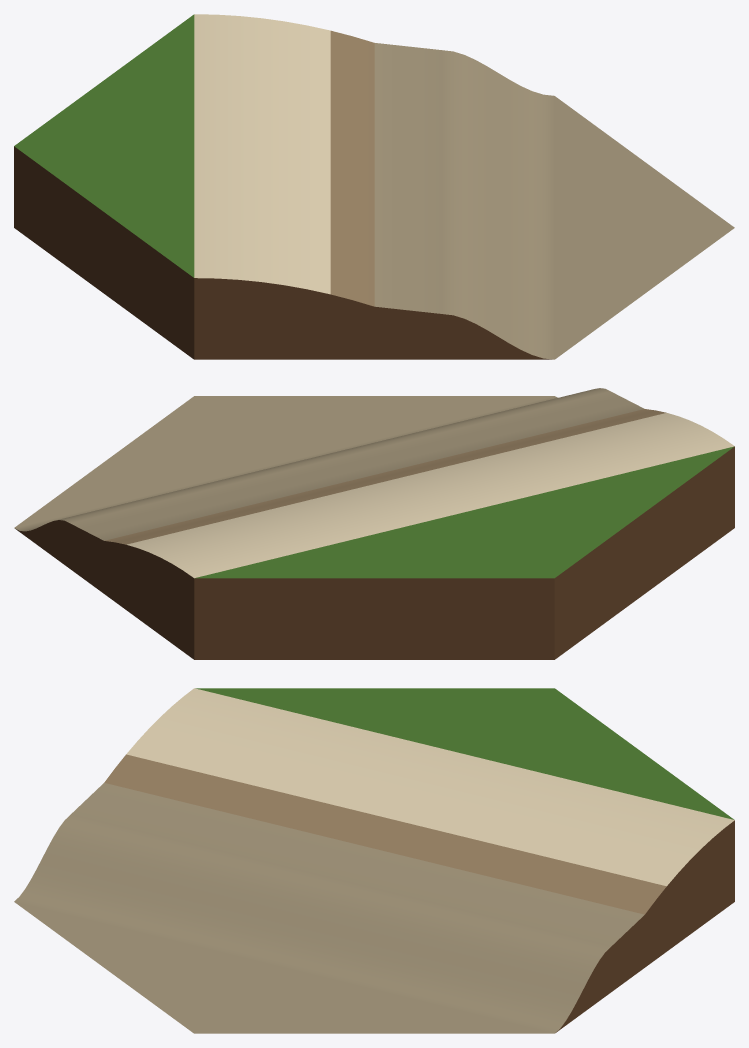
Rendered from beach_base.glb.
3 views of the same model, one above another, from view 1: azimuth 30°, elevation 25°; view 2: azimuth 150°, elevation 25°; view 3: azimuth 270°, elevation 25° (orthographic).
Parts seen in each view (by area): view 1: beach_base_lod0; view 2: beach_base_lod0; view 3: beach_base_lod0.
Part boxes in pixels (x1,y1,x2,y2): beach_base_lod0: (14, 14, 734, 359); beach_base_lod0: (14, 388, 734, 659); beach_base_lod0: (14, 688, 734, 1033).
Size of what is drawn, in the model's own units: 27.71 by 4 by 32.
